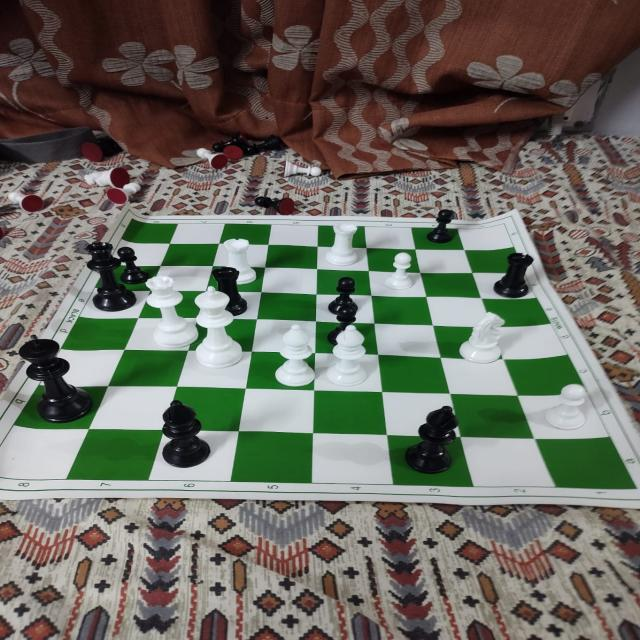board: (0, 204, 639, 493)
square: (534, 437, 637, 489), (66, 429, 164, 480), (0, 425, 89, 479), (461, 437, 555, 487), (148, 430, 240, 481), (387, 435, 473, 487), (518, 392, 610, 439), (231, 432, 313, 484), (312, 433, 394, 485), (13, 385, 108, 429), (89, 387, 178, 430), (451, 394, 534, 439), (164, 387, 246, 432), (382, 392, 461, 437), (504, 354, 587, 396), (239, 389, 315, 433), (313, 390, 387, 435), (39, 349, 125, 387), (108, 350, 189, 387), (440, 358, 518, 396), (377, 355, 450, 394), (177, 351, 252, 388), (247, 352, 316, 391), (493, 323, 567, 359), (314, 354, 383, 392), (61, 317, 139, 350), (124, 318, 200, 351), (433, 326, 504, 360), (188, 318, 258, 352), (374, 324, 440, 357), (252, 320, 317, 353), (79, 288, 150, 318), (316, 322, 378, 355), (481, 298, 550, 327), (426, 297, 492, 327), (138, 291, 206, 318), (94, 264, 161, 291), (371, 296, 433, 325), (199, 291, 261, 320), (316, 294, 374, 324), (257, 292, 317, 321), (107, 239, 170, 266), (473, 273, 537, 299), (206, 266, 265, 293), (150, 266, 213, 291), (464, 247, 524, 273), (420, 273, 481, 298), (458, 224, 514, 251), (369, 271, 426, 297), (317, 269, 371, 296), (261, 268, 317, 294), (121, 219, 178, 244), (367, 248, 420, 273), (416, 250, 472, 273), (161, 244, 219, 266), (265, 245, 318, 269), (213, 244, 268, 267), (317, 247, 369, 271), (365, 226, 416, 250), (412, 228, 464, 250), (318, 225, 367, 248), (169, 224, 225, 244), (268, 225, 318, 247), (219, 224, 271, 245)
